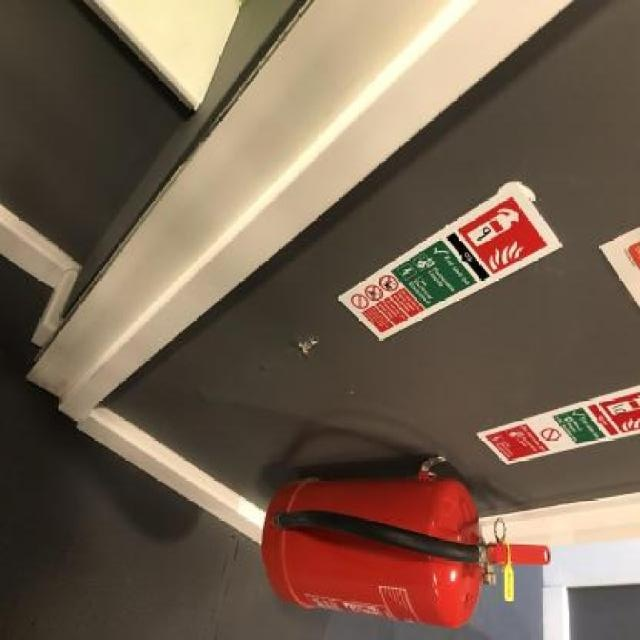fire extinguisher: (263, 474, 552, 632)
